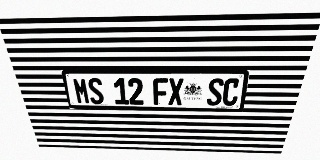1: (112, 78, 129, 104)
2: (127, 78, 144, 105)
C: (221, 78, 241, 106)
F: (153, 78, 168, 105)
M: (72, 78, 91, 104)
S: (206, 78, 224, 106), (87, 78, 105, 104)
X: (168, 78, 184, 105)
